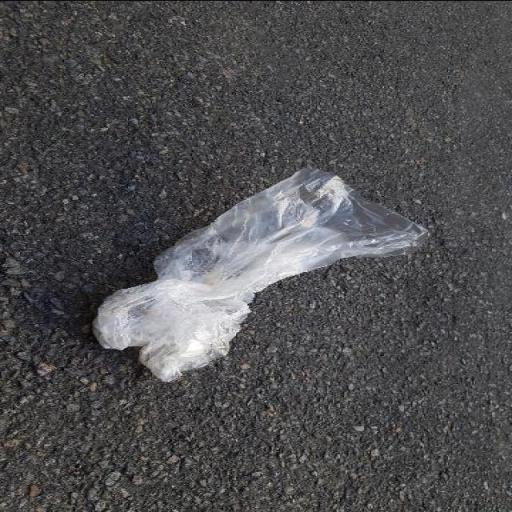plastic-bag: (88, 162, 434, 385)
